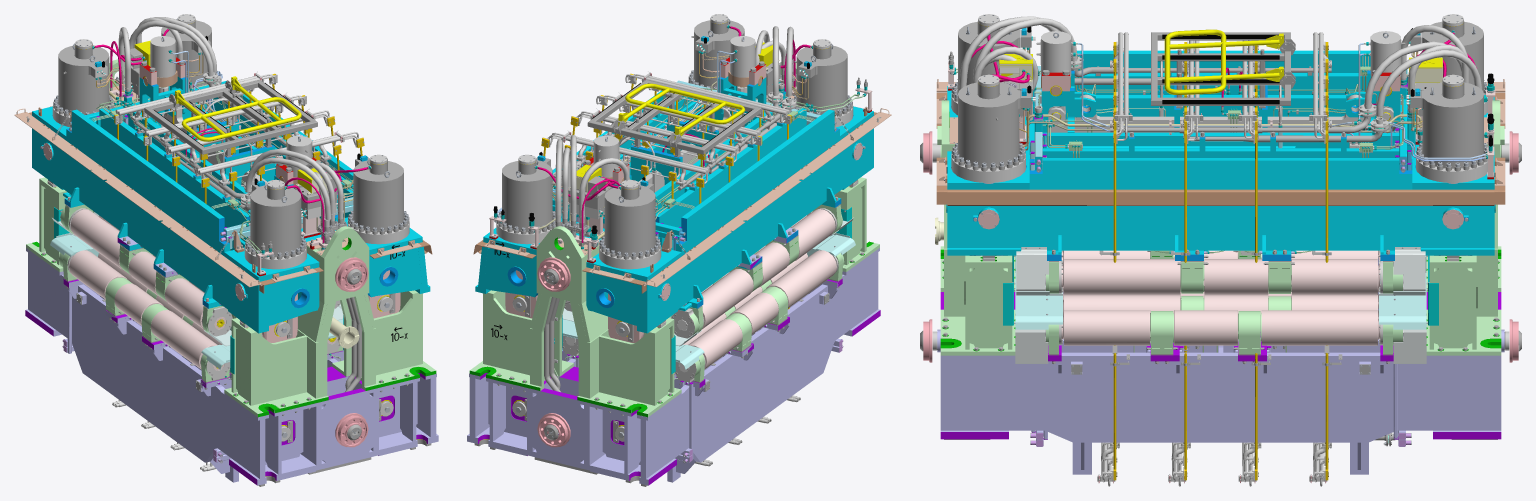
3 renders of one model, left to right at view 1: azimuth 30°, elevation 25°; view 2: azimuth 150°, elevation 25°; view 3: azimuth 270°, elevation 25°, orthographic. The views are drawn at different scales.
Parts seen in each view (by area): view 1: Model; view 2: Model; view 3: Model.
Boxes of the visible parts, x1,y1,x2,y2 form: Model: [14, 14, 438, 486]; Model: [467, 14, 891, 486]; Model: [920, 14, 1521, 486].
Size of what is drawn, in the model's own units: 2.54 by 4 by 5.37.
